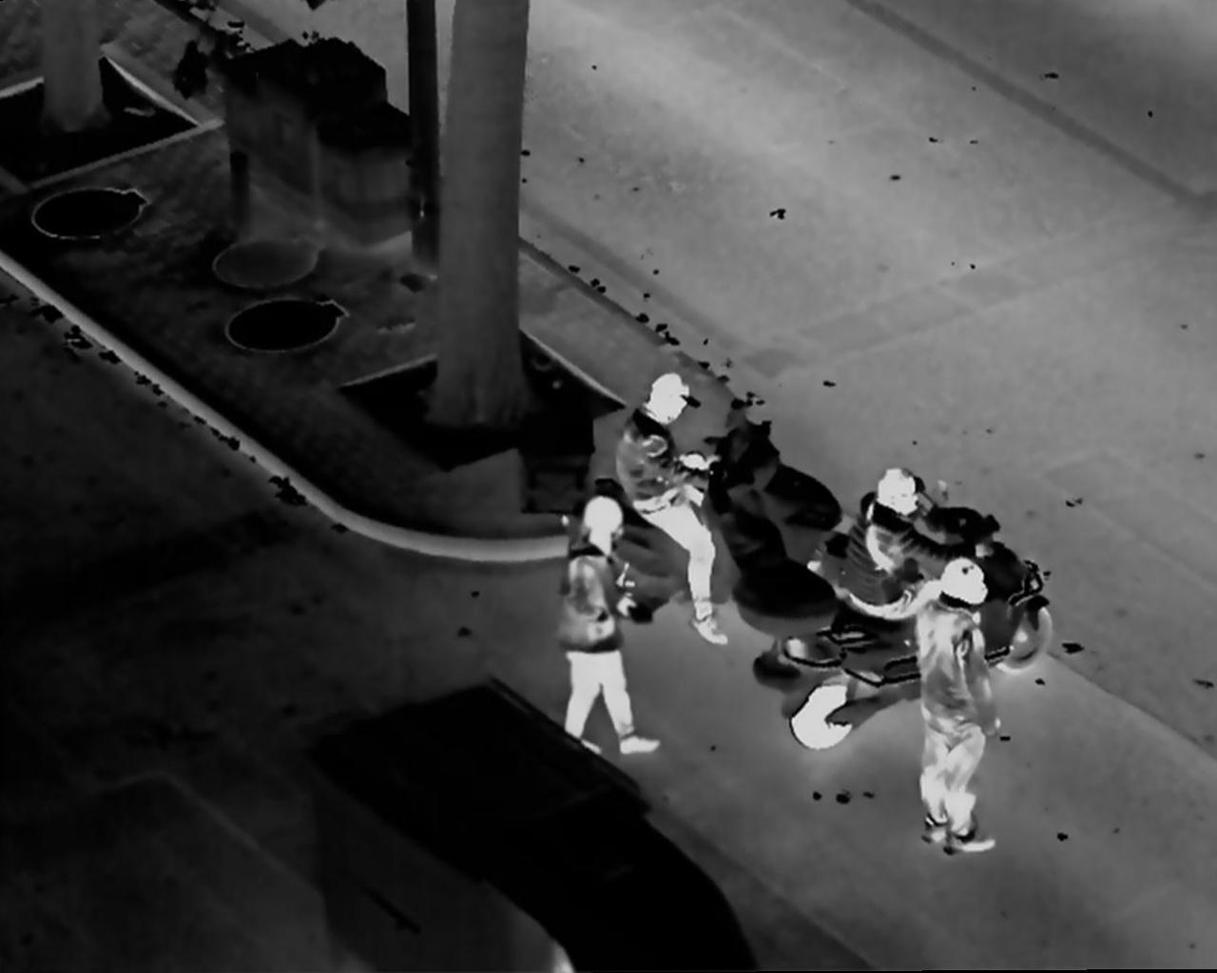person: (616, 359, 736, 658), (899, 542, 1009, 863), (551, 487, 661, 759), (832, 449, 983, 628)
